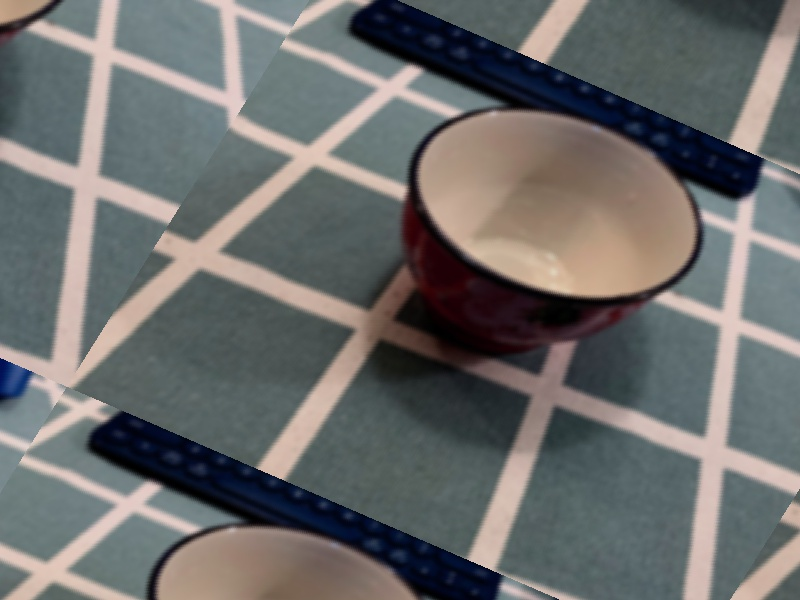bowl_small: (317, 62, 757, 413)
